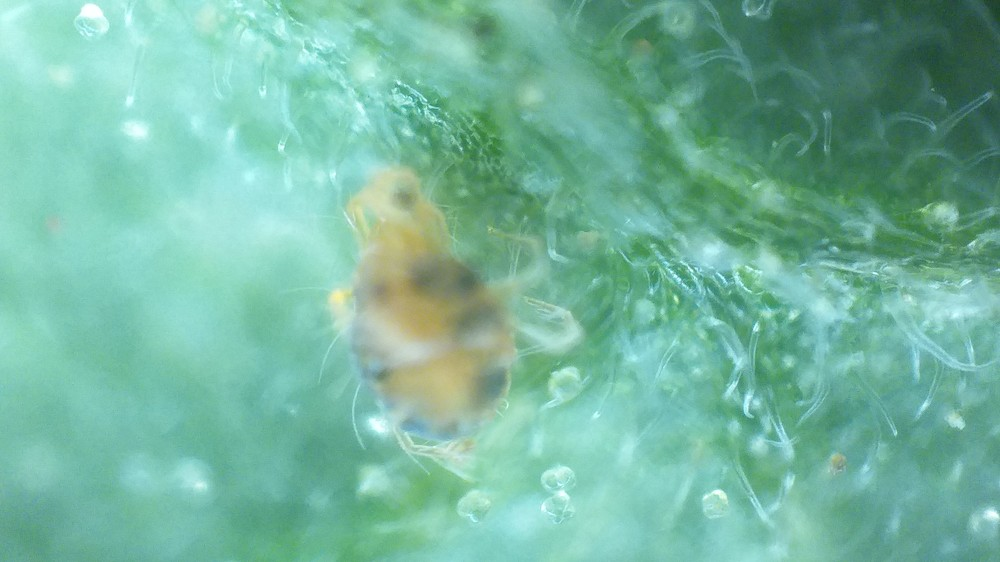Aracnido Rojo: (281, 162, 590, 500)
